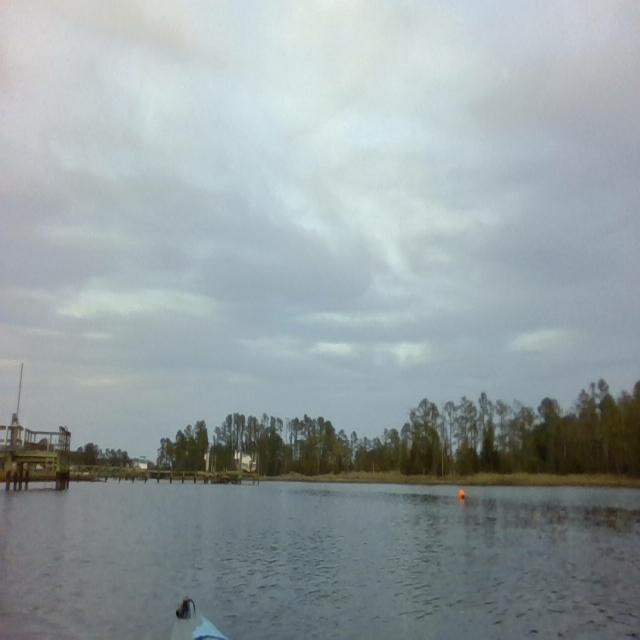Buoy: (457, 486, 467, 502)
